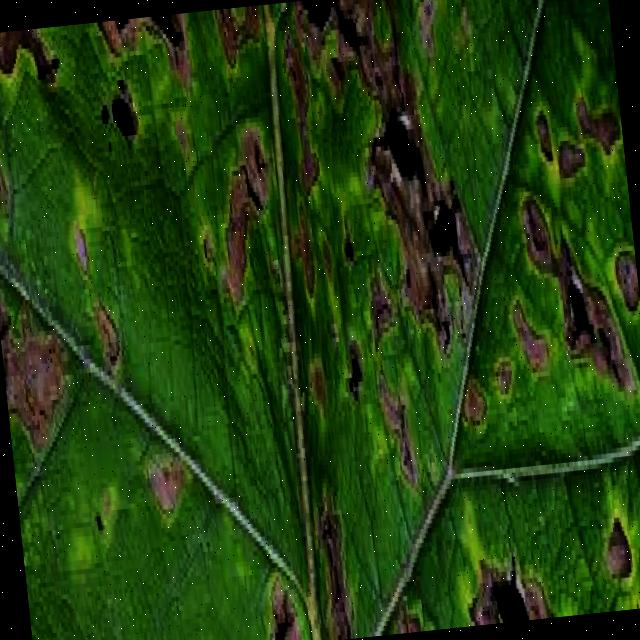leaf spot: (283, 0, 640, 639)
